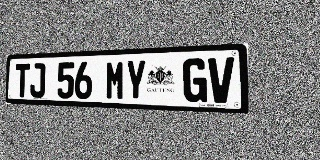5: (57, 62, 74, 99)
6: (74, 61, 92, 99)
G: (183, 58, 207, 103)
J: (30, 63, 45, 98)
M: (105, 60, 125, 100)
T: (15, 63, 30, 97)
V: (208, 57, 234, 103)
Y: (125, 60, 146, 101)
